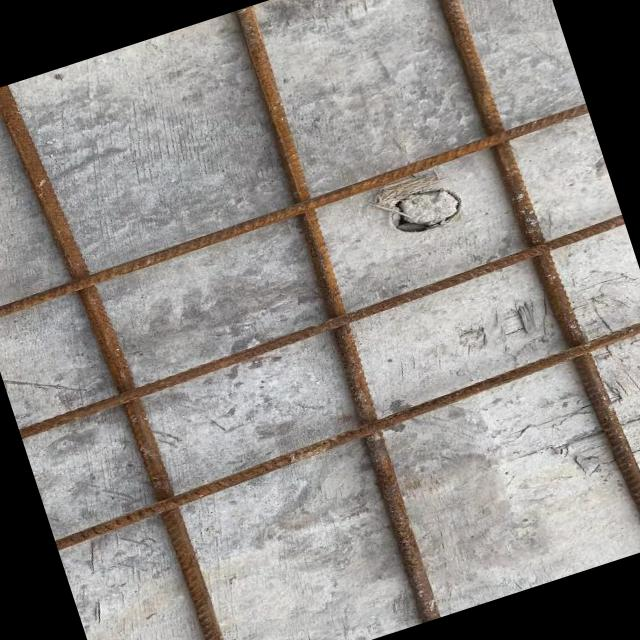ribbed bar: (217, 4, 452, 624), (0, 69, 253, 640), (13, 214, 631, 442), (47, 317, 640, 553), (0, 101, 593, 324), (410, 0, 640, 562)
